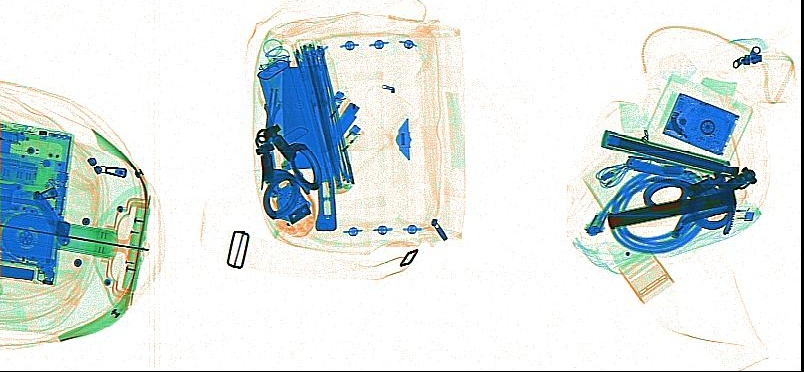handcuffs: (642, 166, 757, 234), (253, 123, 323, 219)
knife: (280, 63, 337, 231), (314, 100, 361, 154), (31, 190, 70, 245), (624, 154, 687, 177)
lighter: (305, 89, 351, 138), (318, 123, 363, 167), (706, 206, 754, 223)
zippooil: (256, 56, 309, 148)
